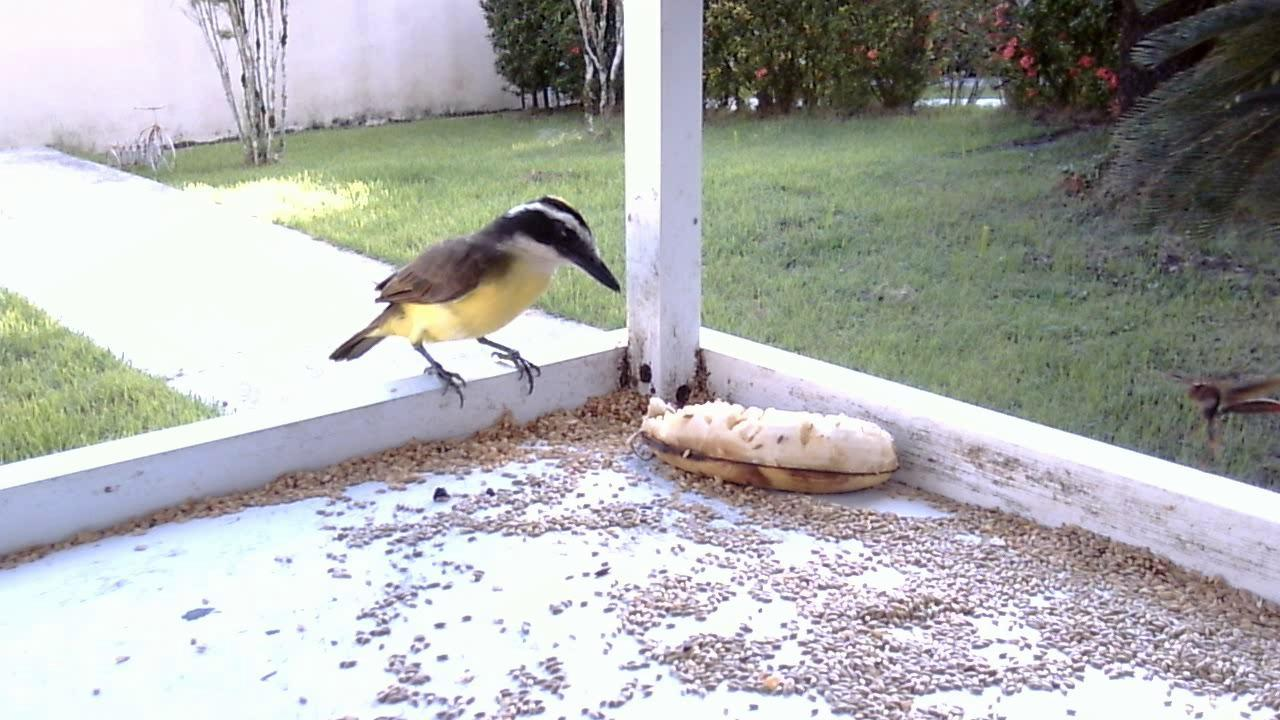bem_te_vi: (318, 185, 627, 420)
